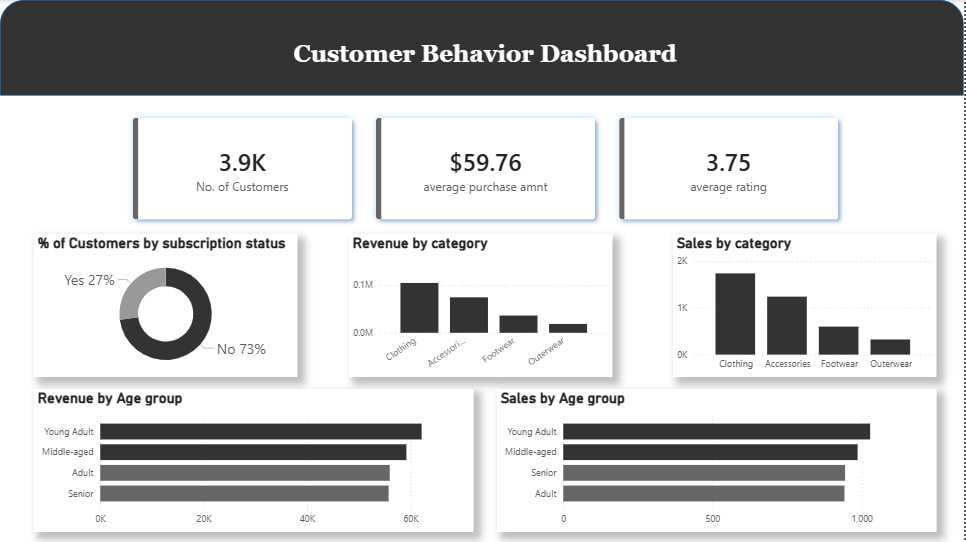

What the dashboard file says about the page in this screenshot:
{"tool":"powerbi","page":{"name":"Page 1","canvas":[1280,720],"ordinal":0},"visuals":[{"type":"cardVisual","fields":{"Data":["public customer.No. of Customers","public customer.average purchase amnt","public customer.average rating"]},"box":[147.8,127.3,995.1,193.2],"z":0},{"type":"shape","box":[0,0,1280.5,127.3],"z":1000},{"type":"textbox","box":[45.4,48.3,1198.5,102.4],"z":2000},{"type":"donutChart","title":"% of Customers by subscription status","fields":{"Category":["public customer.subscription_status"],"Y":["CountNonNull(public customer.customer_id)"]},"box":[45.4,310.2,349.8,190.2],"z":3000},{"type":"clusteredColumnChart","title":"Revenue by category","fields":{"Y":["Sum(public customer.purchase_amount)"],"Category":["public customer.category"]},"box":[463.9,310.2,349.8,190.2],"z":4000},{"type":"clusteredColumnChart","title":"Sales by category","fields":{"Y":["CountNonNull(public customer.customer_id)"],"Category":["public customer.category"]},"box":[894.1,310.2,349.8,190.2],"z":5000},{"type":"clusteredBarChart","title":"Revenue by Age group","fields":{"Y":["Sum(public customer.purchase_amount)"],"Category":["public customer.age_group"]},"box":[45.4,516.6,583.9,190.2],"z":5001},{"type":"clusteredBarChart","title":"Sales by Age group","fields":{"Y":["CountNonNull(public customer.customer_id)"],"Category":["public customer.age_group"]},"box":[660,516.6,583.9,190.2],"z":5002}]}

Visuals, with their boxes in screenshot pixels (x1, y1, x2, y2), scaled from the page's 1280x720 canvas onto the 966x542 screenshot:
cardVisual - public customer.No. of Customers x public customer.average purchase amnt: box=[112, 96, 863, 241]
shape: box=[0, 0, 965, 96]
textbox: box=[34, 36, 939, 113]
"% of Customers by subscription status" donutChart: box=[34, 234, 298, 377]
"Revenue by category" clusteredColumnChart: box=[350, 234, 614, 377]
"Sales by category" clusteredColumnChart: box=[675, 234, 939, 377]
"Revenue by Age group" clusteredBarChart: box=[34, 389, 475, 532]
"Sales by Age group" clusteredBarChart: box=[498, 389, 939, 532]
